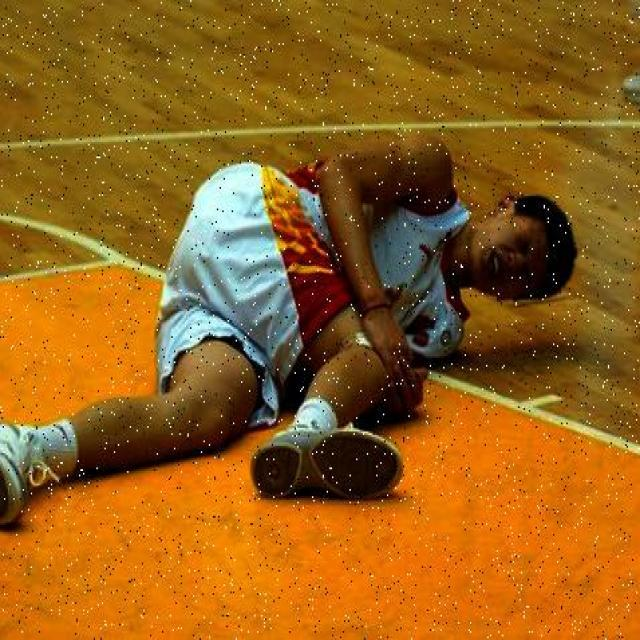fall: (10, 172, 568, 503)
